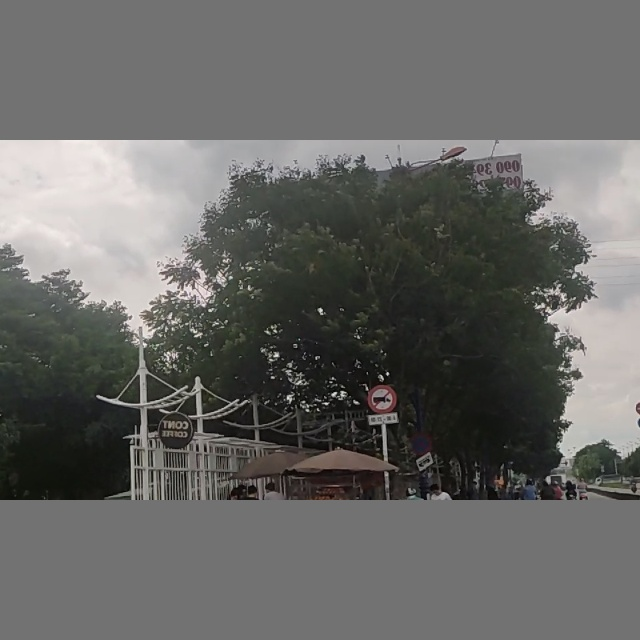B.8a: (366, 386, 396, 426)
